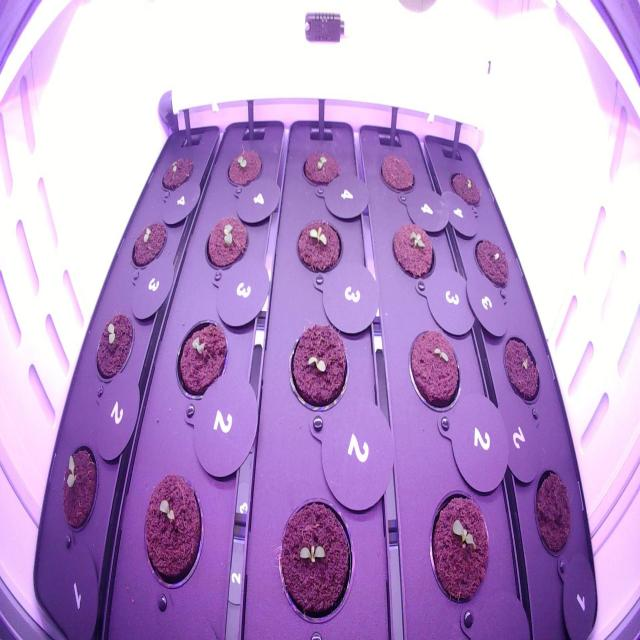germination: (272, 487, 357, 630), (420, 478, 494, 617), (136, 470, 209, 596), (284, 317, 352, 418), (168, 313, 232, 410), (404, 322, 464, 417), (57, 439, 103, 536), (287, 213, 346, 278), (90, 304, 136, 387), (498, 329, 543, 410), (199, 212, 253, 275), (387, 220, 440, 284), (469, 230, 513, 294), (126, 216, 170, 277), (296, 145, 345, 193), (222, 139, 265, 192), (156, 147, 197, 195), (445, 165, 484, 210)
pod: (529, 463, 575, 567), (375, 149, 417, 196)
